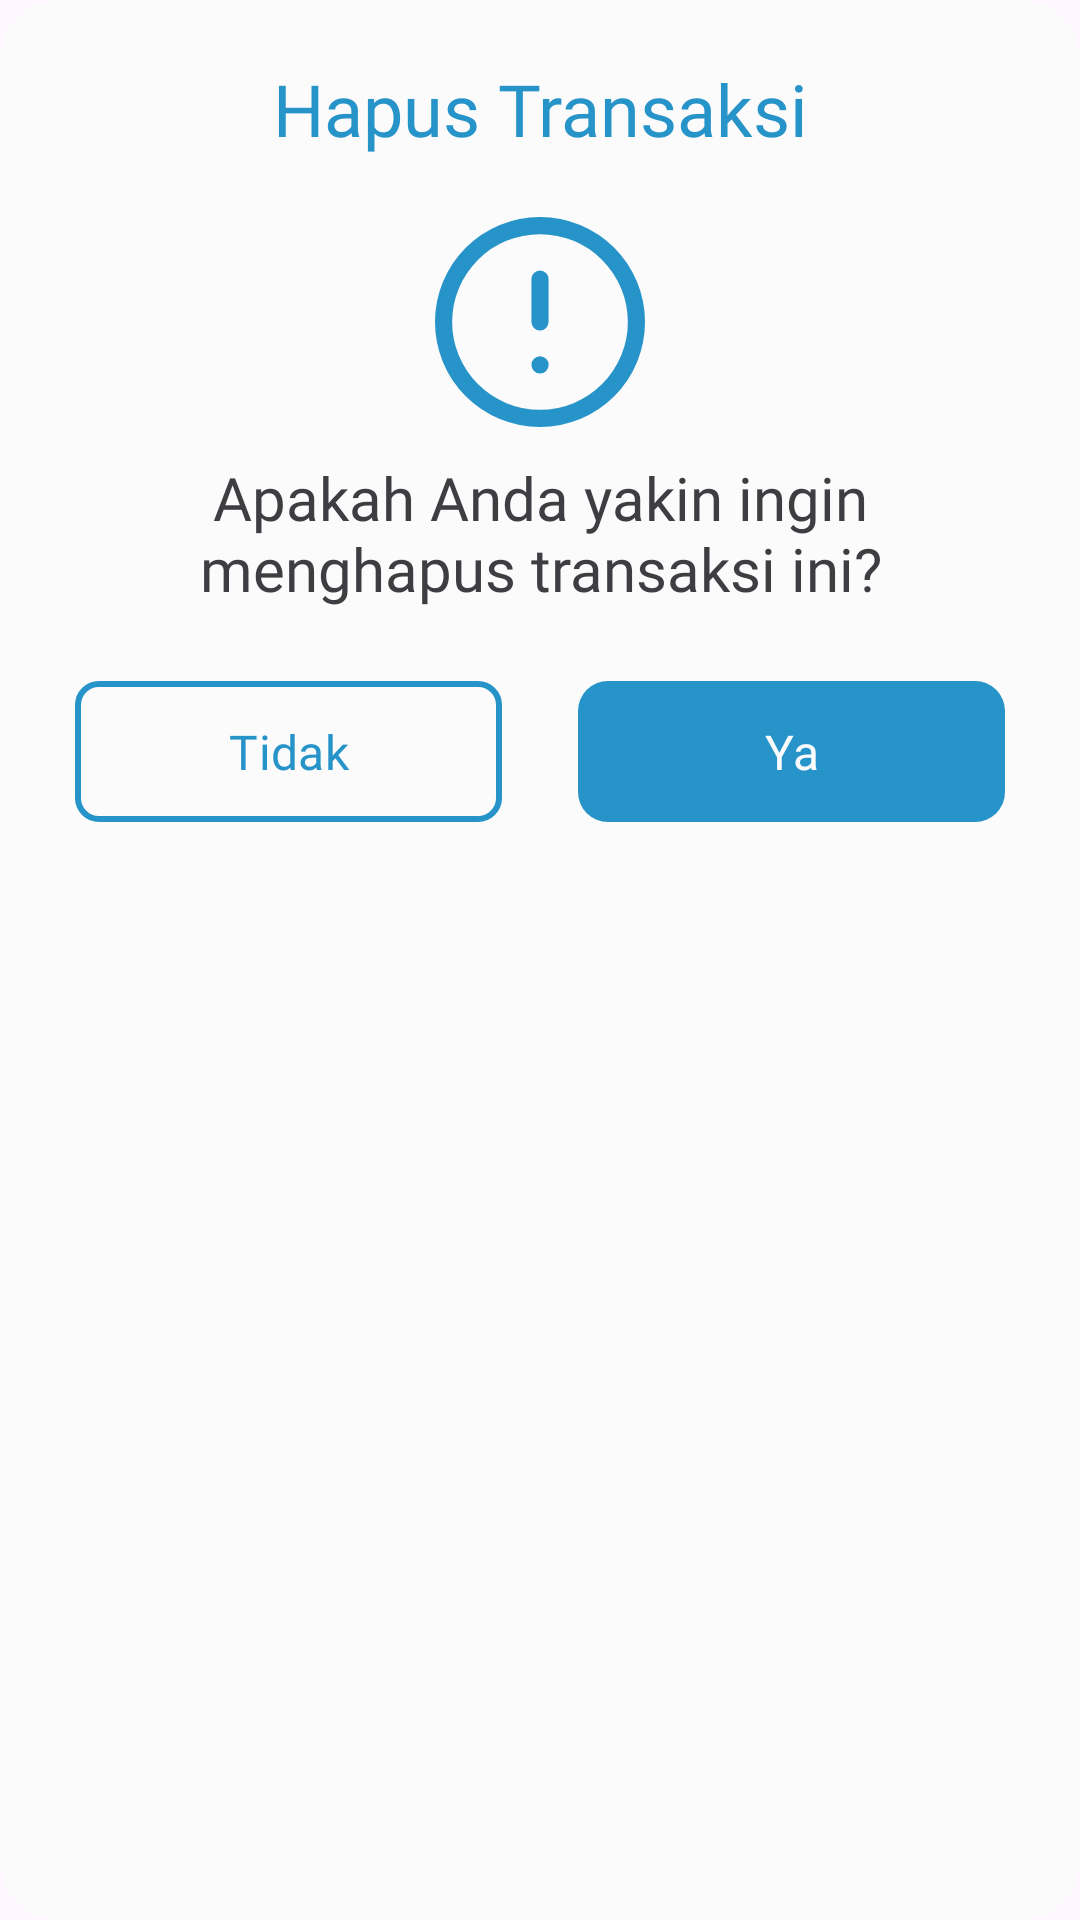

Named icons in this screenshot (1080px×1920px) and their centers, (x=x, y=y):
Image Warning Remove Transaction Dialog: (x=540, y=322)
